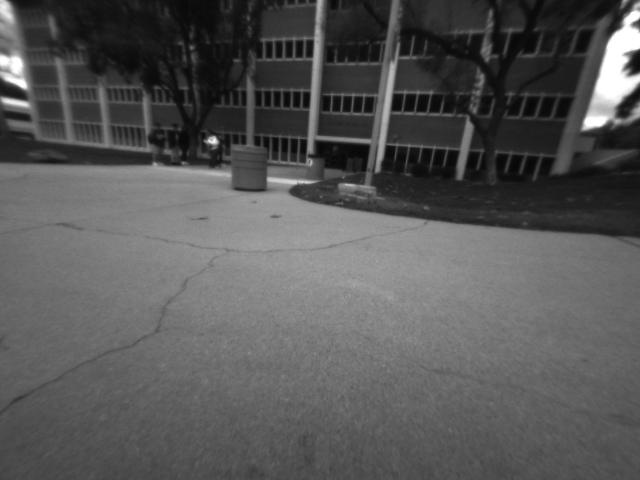trashcan: (223, 132, 276, 195), (300, 147, 328, 185)
